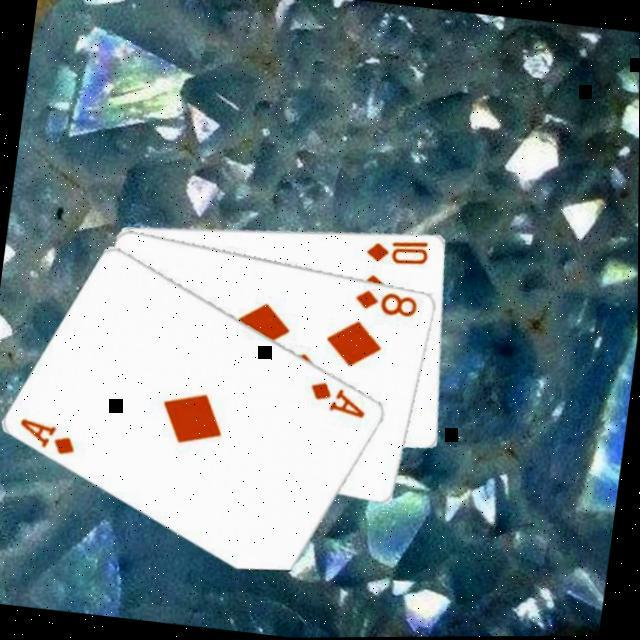10D: (362, 230, 433, 269)
8D: (349, 284, 421, 320)
AD: (14, 412, 80, 458), (304, 376, 371, 421)
